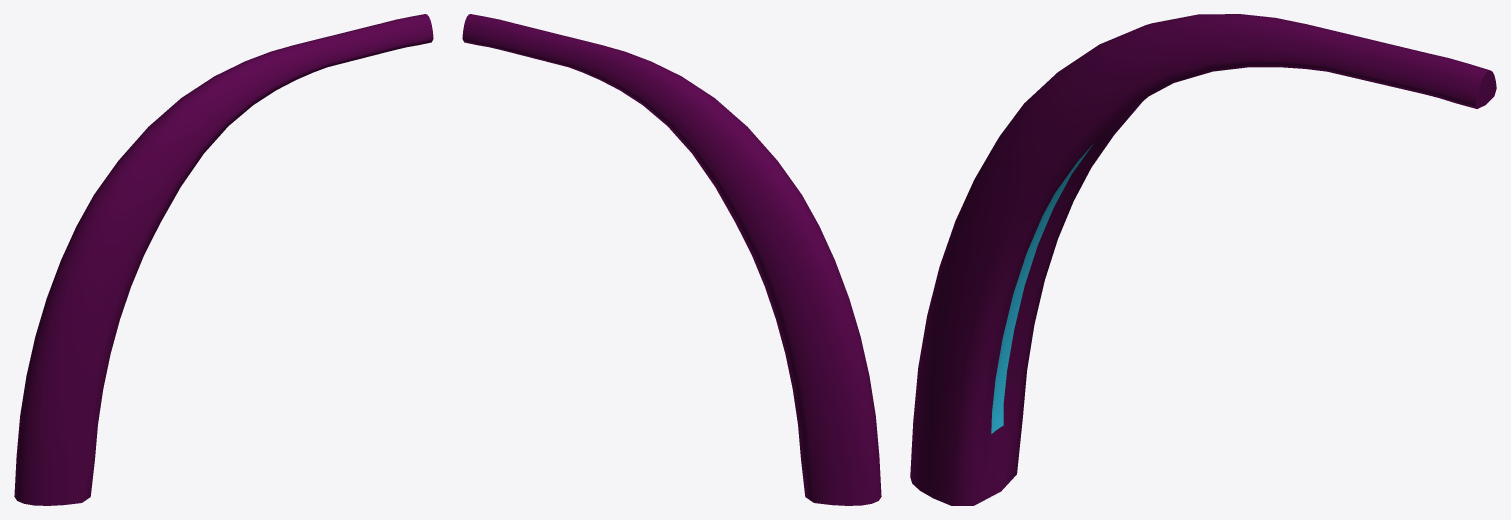
The model's file is SUPPORTARCH 4.FBX.
3 views of the same model, side by side, from view 1: azimuth 30°, elevation 25°; view 2: azimuth 150°, elevation 25°; view 3: azimuth 330°, elevation 25° (orthographic). The views are drawn at different scales.
Parts seen in each view (by area): view 1: Torus015; view 2: Torus015; view 3: Torus015.
Boxes of the visible parts, x1,y1,x2,y2 form: Torus015: [14, 14, 433, 505]; Torus015: [462, 14, 881, 505]; Torus015: [910, 14, 1496, 505].
Size of the model in its own units: 18.06 by 16.32 by 2.93.
